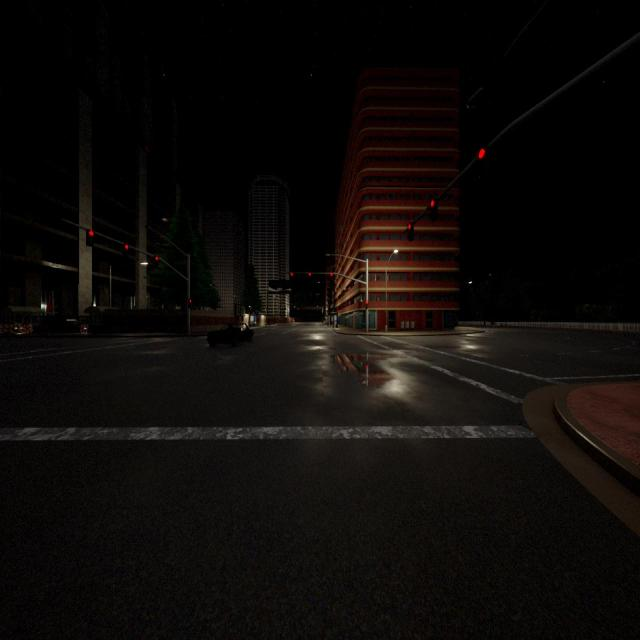Vehicle: (208, 322, 255, 348)
traffic_light: (476, 146, 487, 176), (428, 198, 437, 220), (406, 222, 414, 241), (86, 229, 94, 247), (122, 244, 129, 262), (152, 256, 159, 270), (188, 299, 192, 309), (365, 300, 368, 310), (290, 272, 294, 276), (330, 272, 333, 276), (309, 272, 311, 276)
